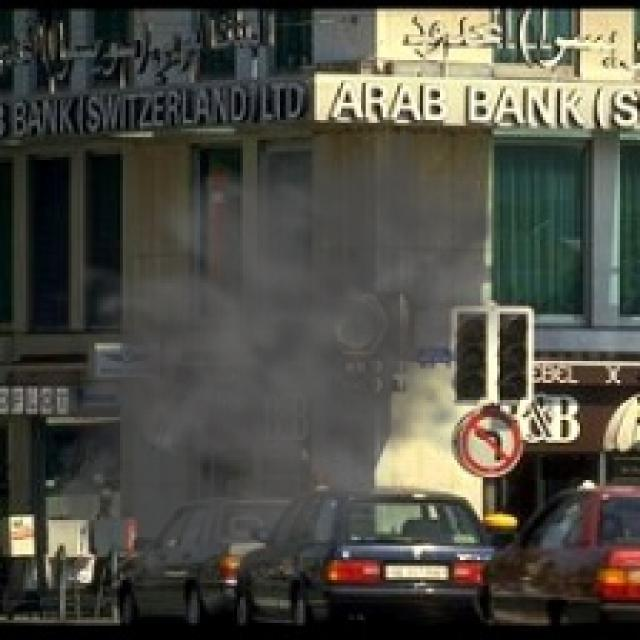Smoke: (17, 94, 537, 626)
